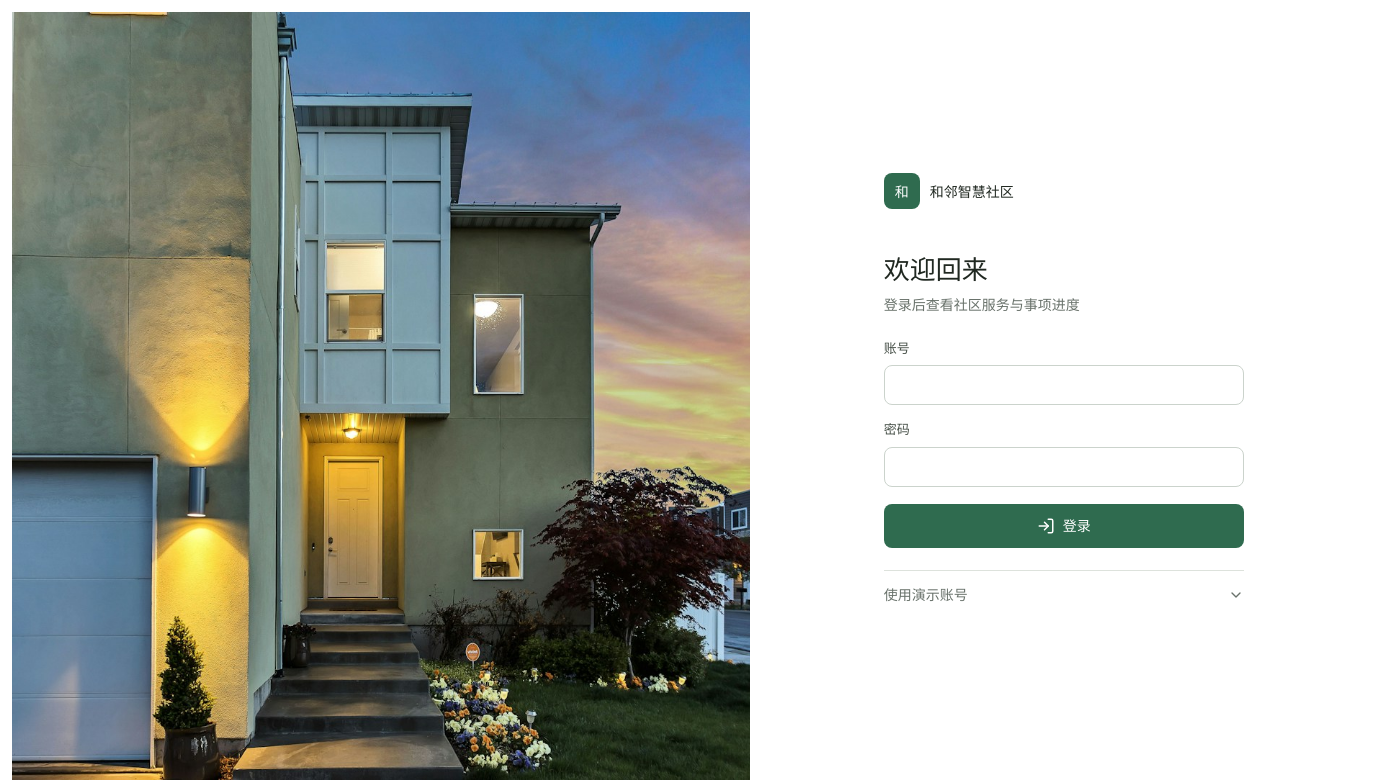
Test: login form › keeps the form available and shows the API message after a rejected login
Step 1. Type "owner" into the field labelled "账号" → (1064, 385), box [884,365,1244,405]
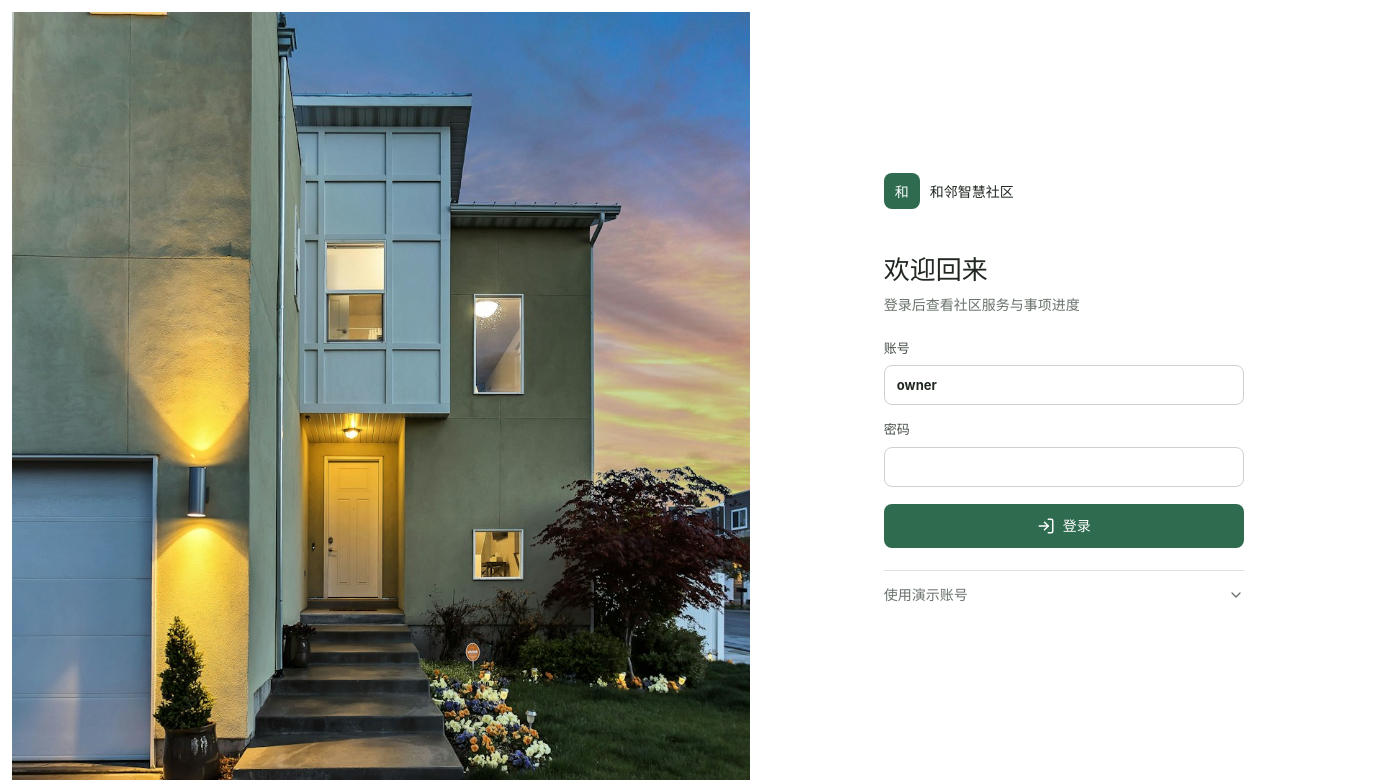
Step 2. Type "wrong" into the password field labelled "密码" → (1064, 467), box [884,447,1244,487]
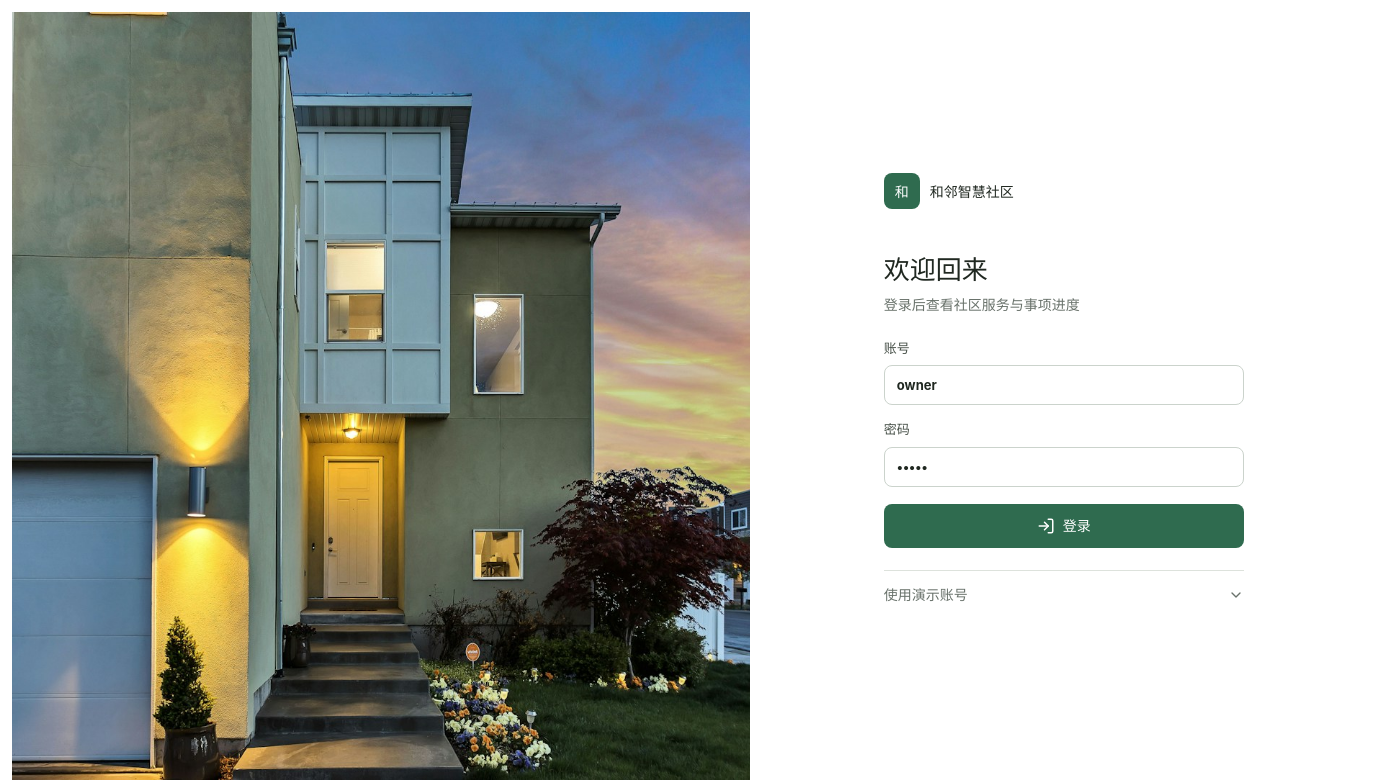
Step 3. Click the button "登录" → click(1064, 526), box [884,504,1244,548]
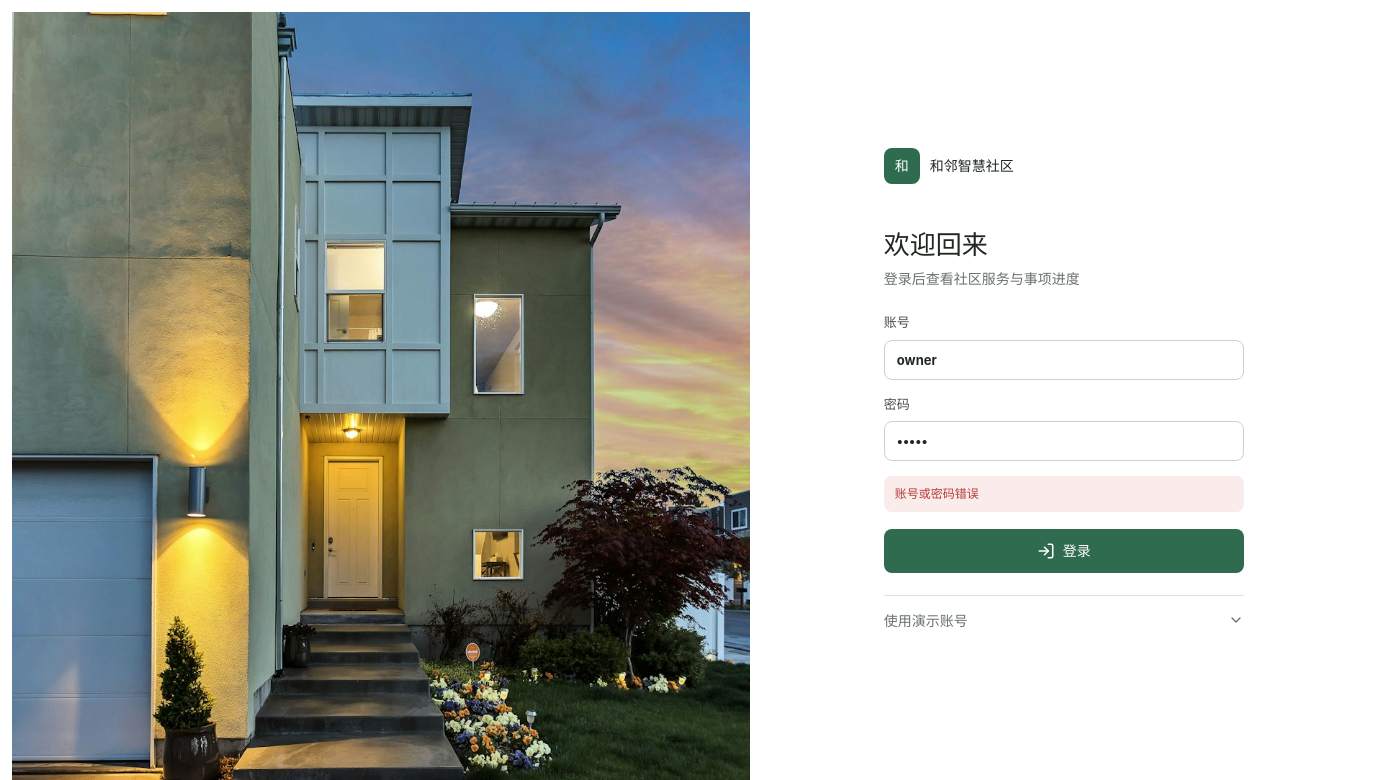
Expected: the button "登录" is enabled, [884,529,1244,573]
Result: the message reads "账号或密码错误" at [895,486,979,501]
